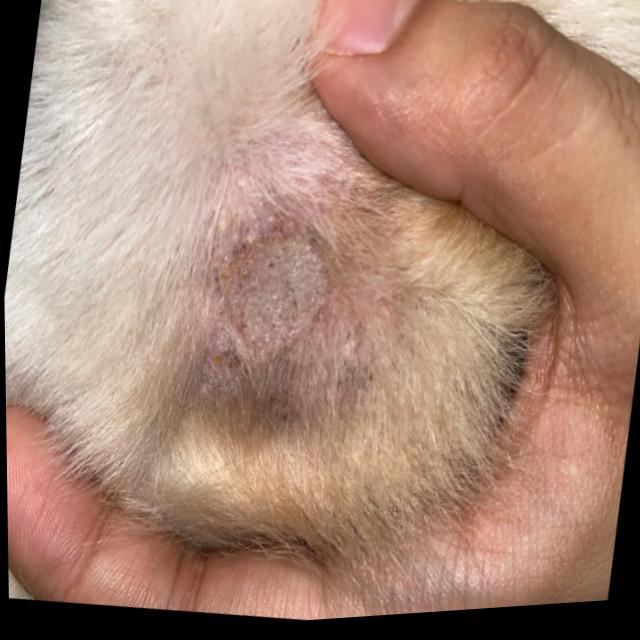ringworm: (196, 184, 360, 408)
